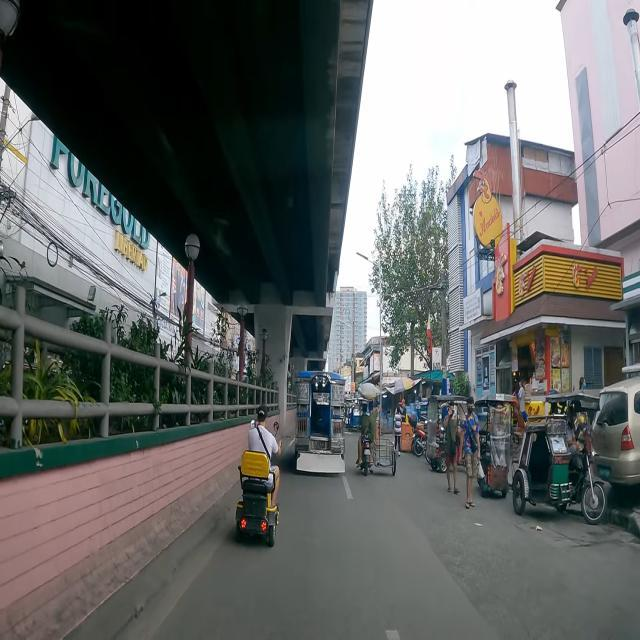car: (591, 376, 640, 488)
jeepney: (295, 371, 345, 474)
motorcycle: (409, 416, 426, 458)
tricycle: (512, 393, 606, 524), (474, 394, 518, 497), (424, 396, 467, 472), (356, 402, 398, 475), (346, 398, 370, 432)
